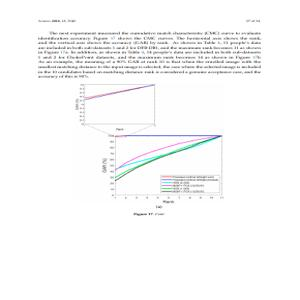diagram: (37, 80, 260, 229)
text: (36, 28, 261, 80)
